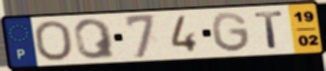4: (170, 14, 200, 55)
7: (123, 12, 159, 60)
G: (209, 11, 253, 54)
O: (32, 19, 75, 63)
Q: (72, 17, 118, 61)
T: (252, 10, 286, 50)
